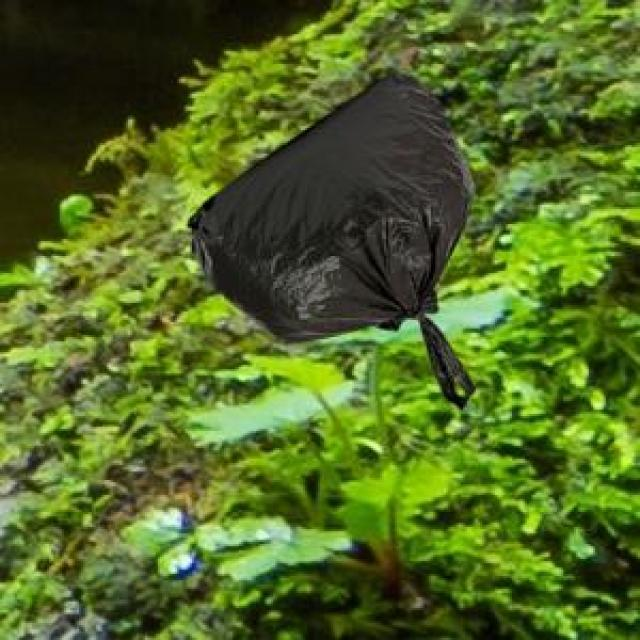Vinyl: (190, 76, 474, 407)
